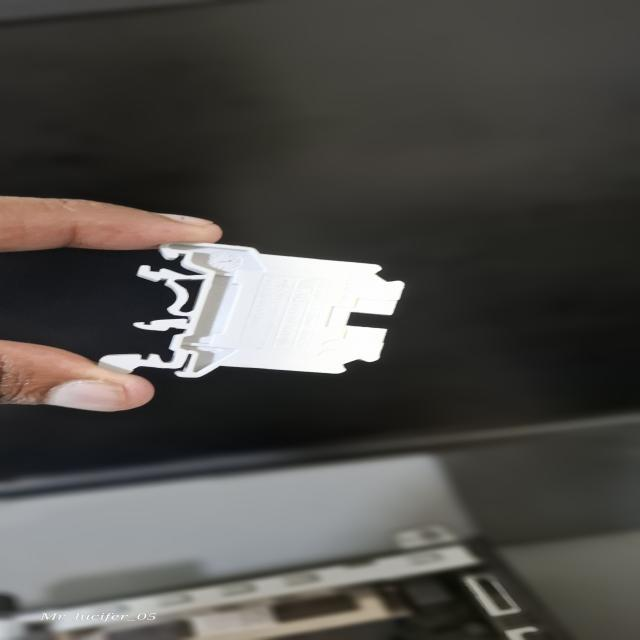Inverted: (74, 233, 412, 387)
